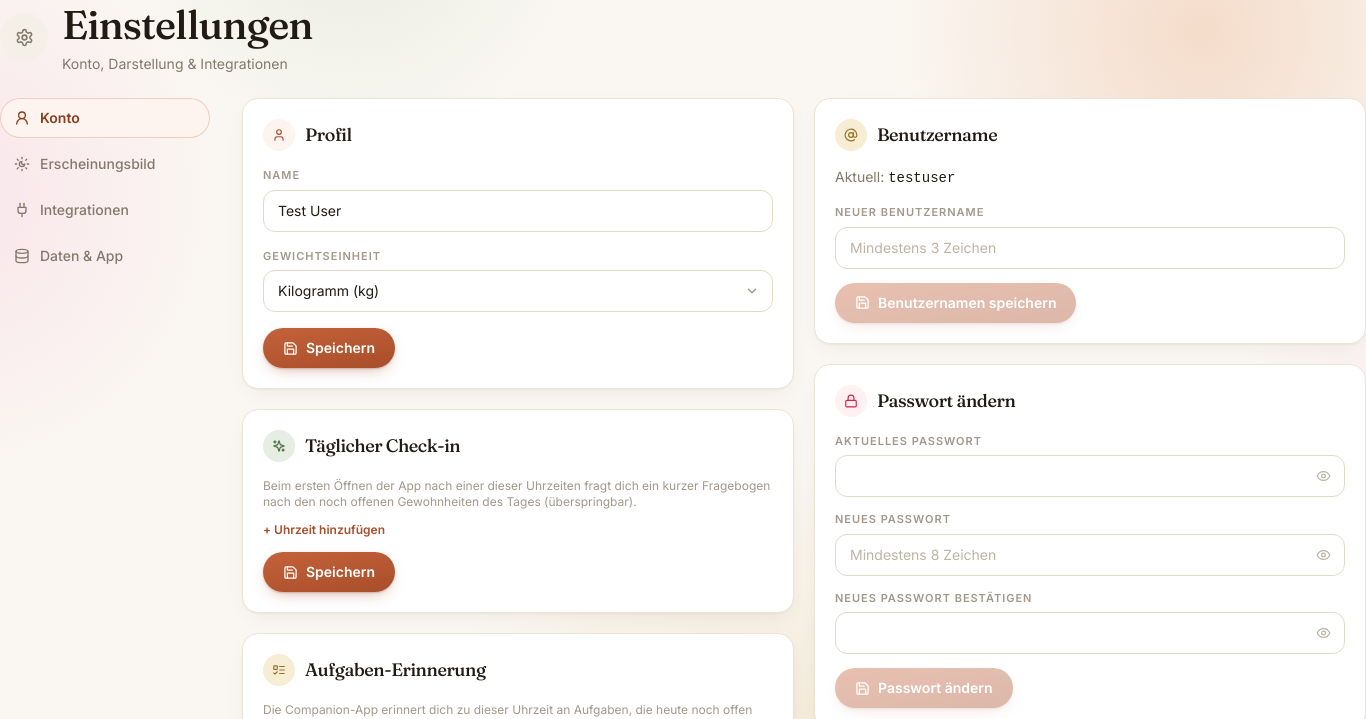
Test: Settings – Benutzername › shows username save error from server
Type "taken" into the field with placeholder "Mindestens 3 Zeichen".
click(1090, 248); type("taken")  # box [835,226,1345,268]
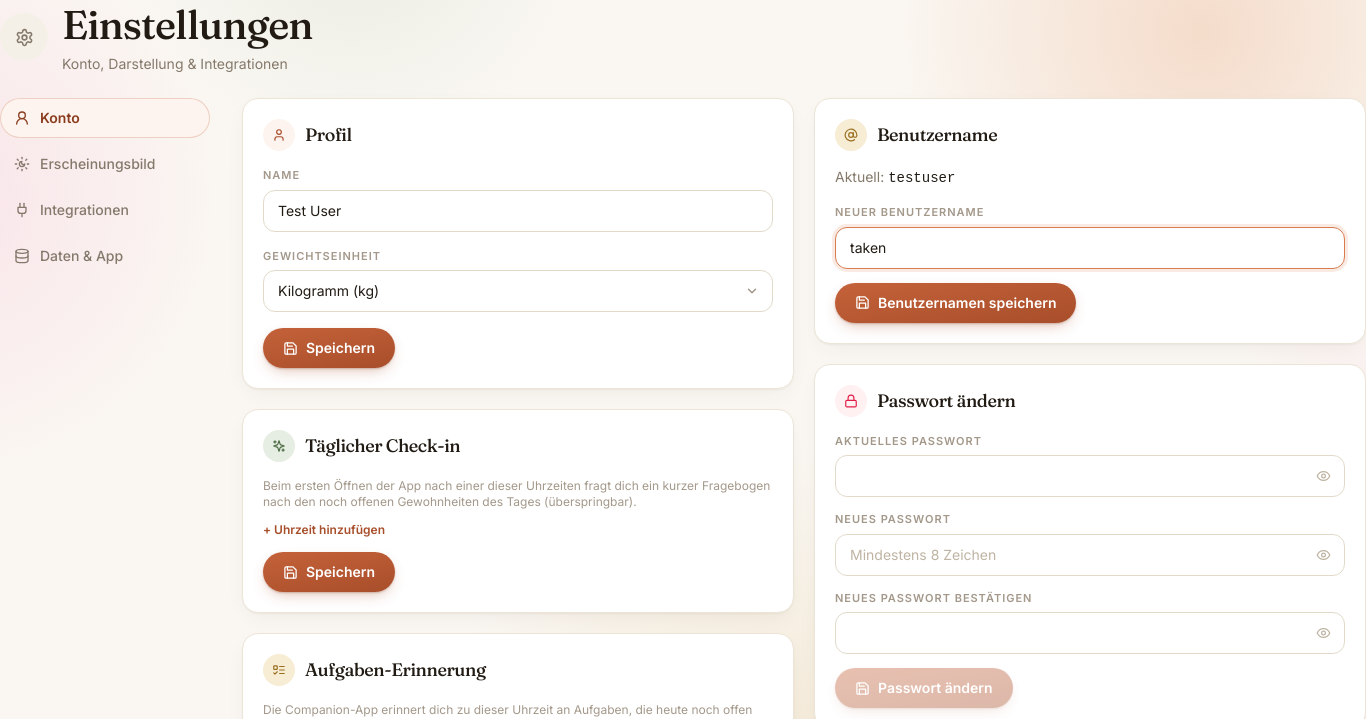
Click the button "Benutzernamen speichern".
click(956, 302)  # box [835,282,1076,322]
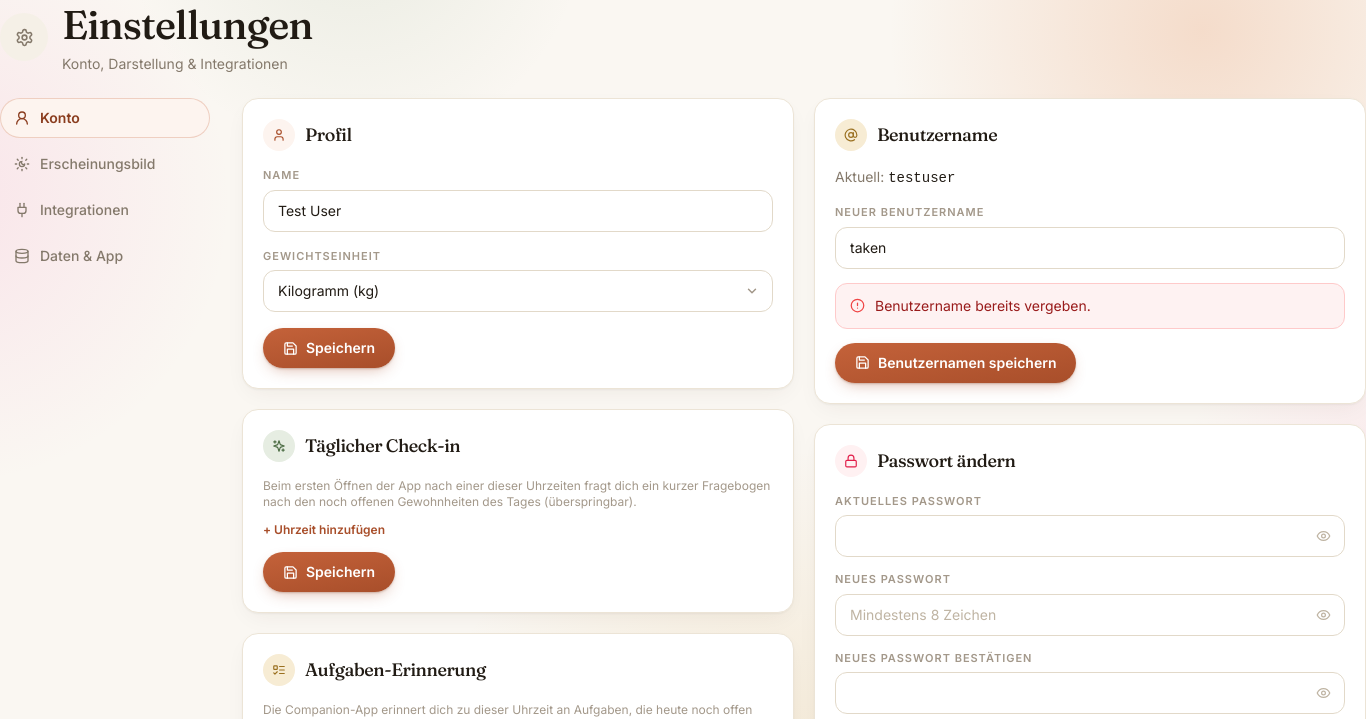
Result: the text "Benutzername bereits vergeben." is shown at [875,296,1091,316]
